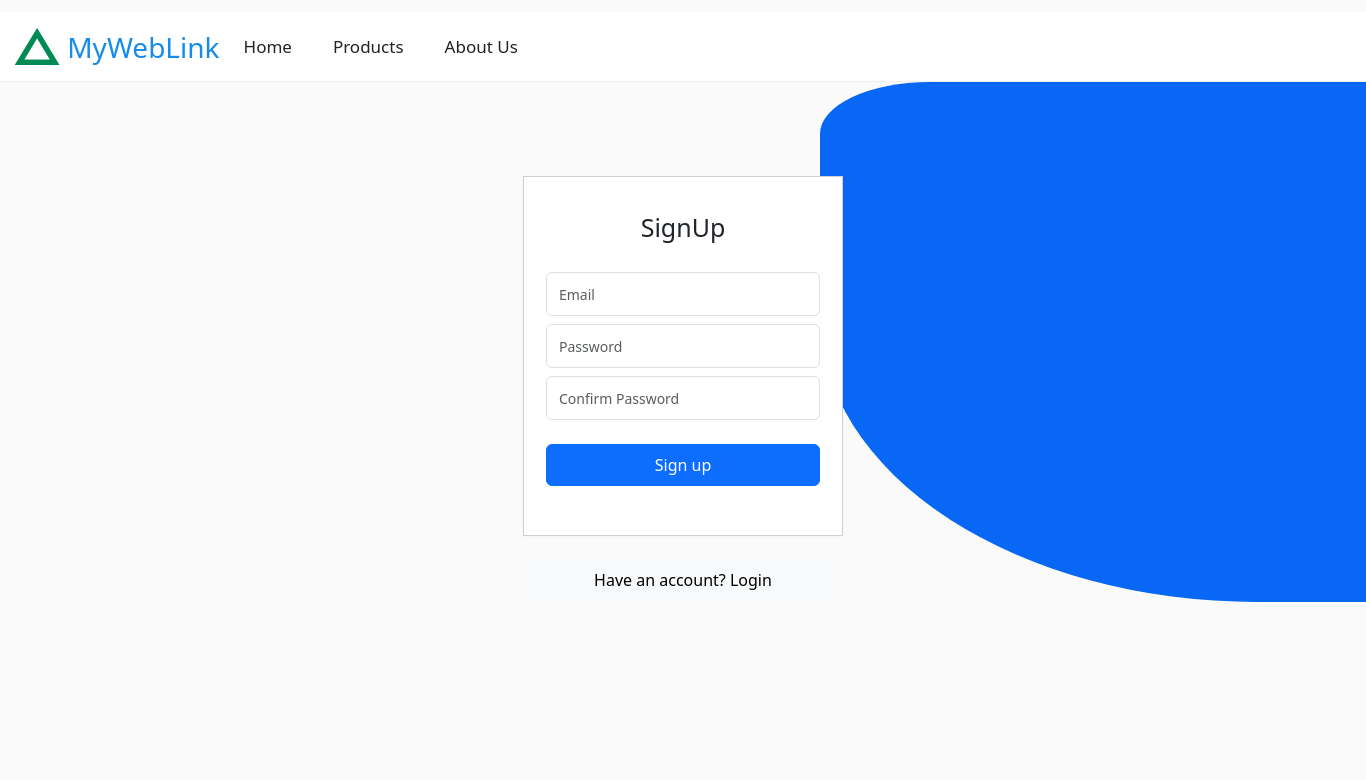
Test case: Signup Component › successfully creates a new user
This screenshot has width=1366, height=780.
In the field with placeholder "Email": [683, 294] box [546, 272, 820, 316], type "test@gmail.com"
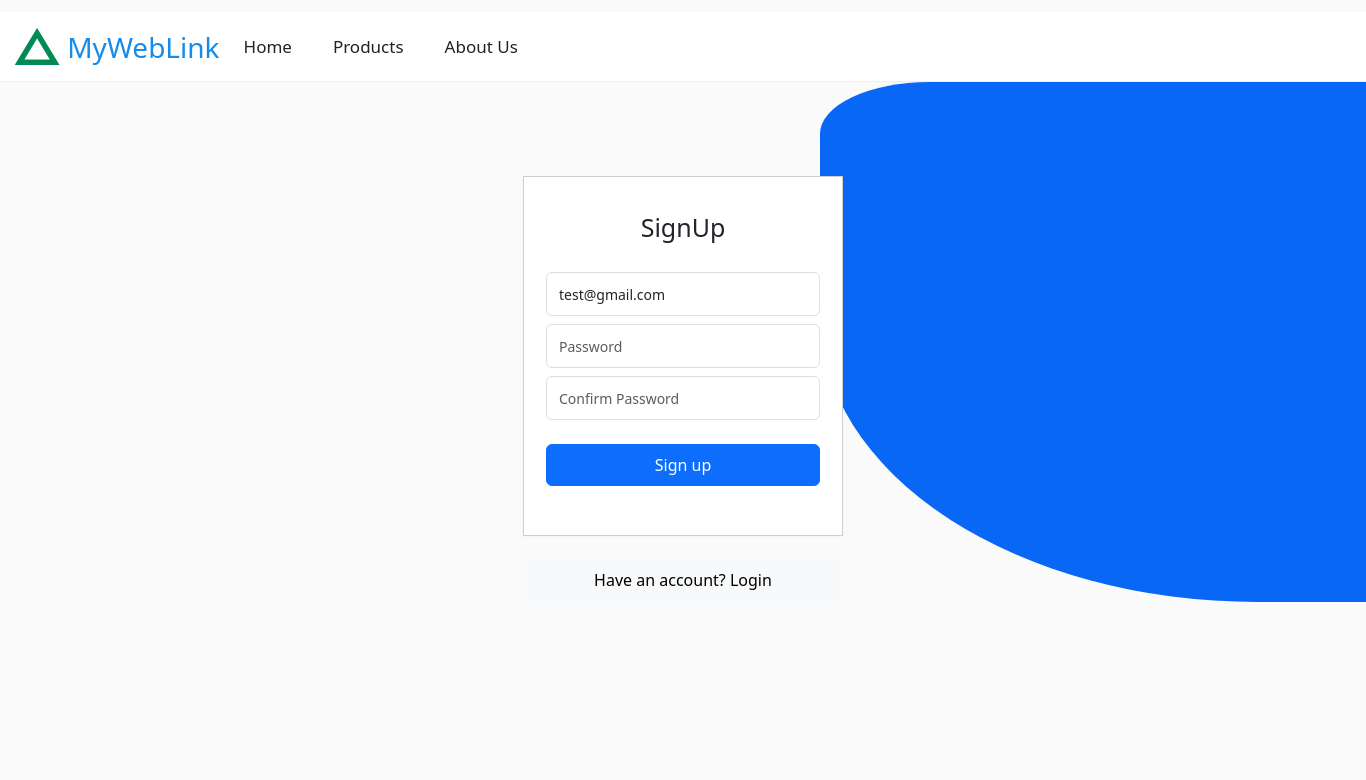
In the password field with placeholder "Password": [683, 346] box [546, 324, 820, 368], type "password123"
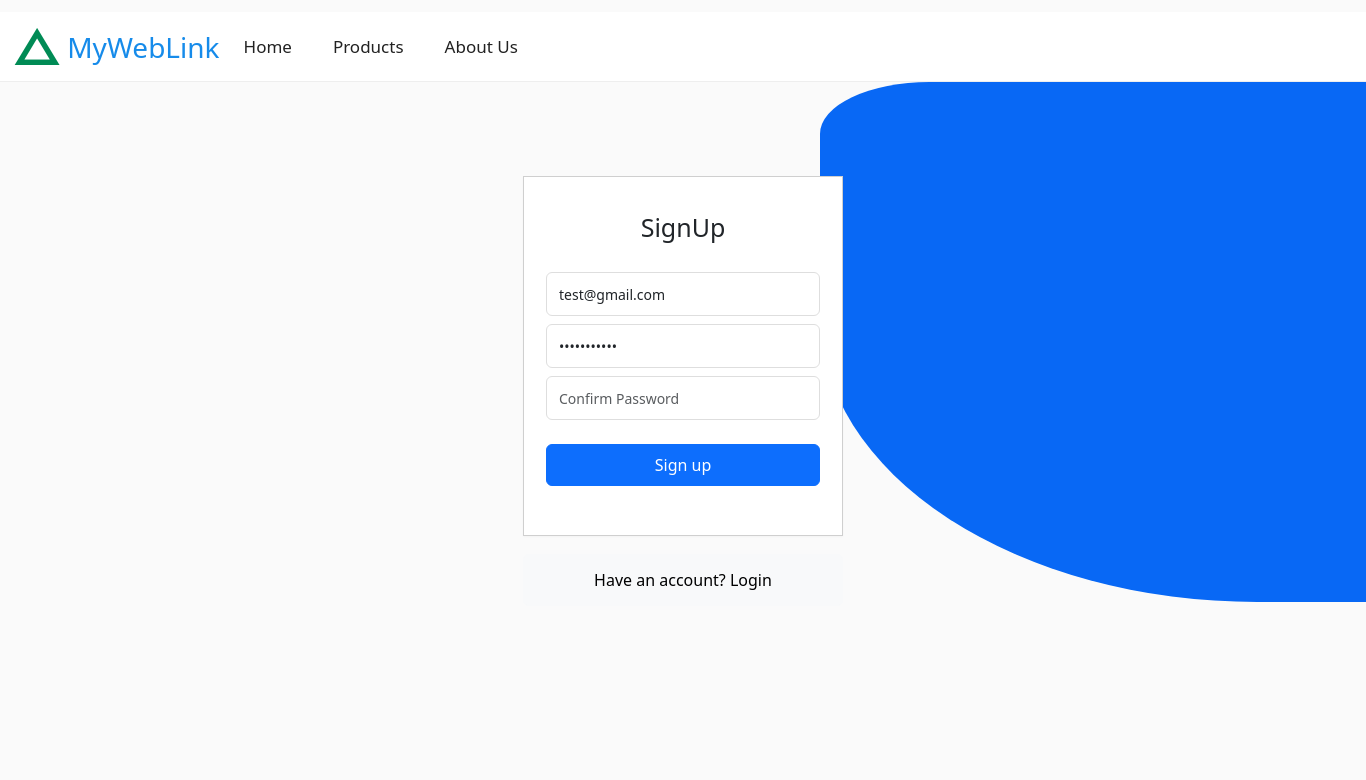
In the password field with placeholder "Confirm Password": [683, 398] box [546, 376, 820, 420], type "password123"
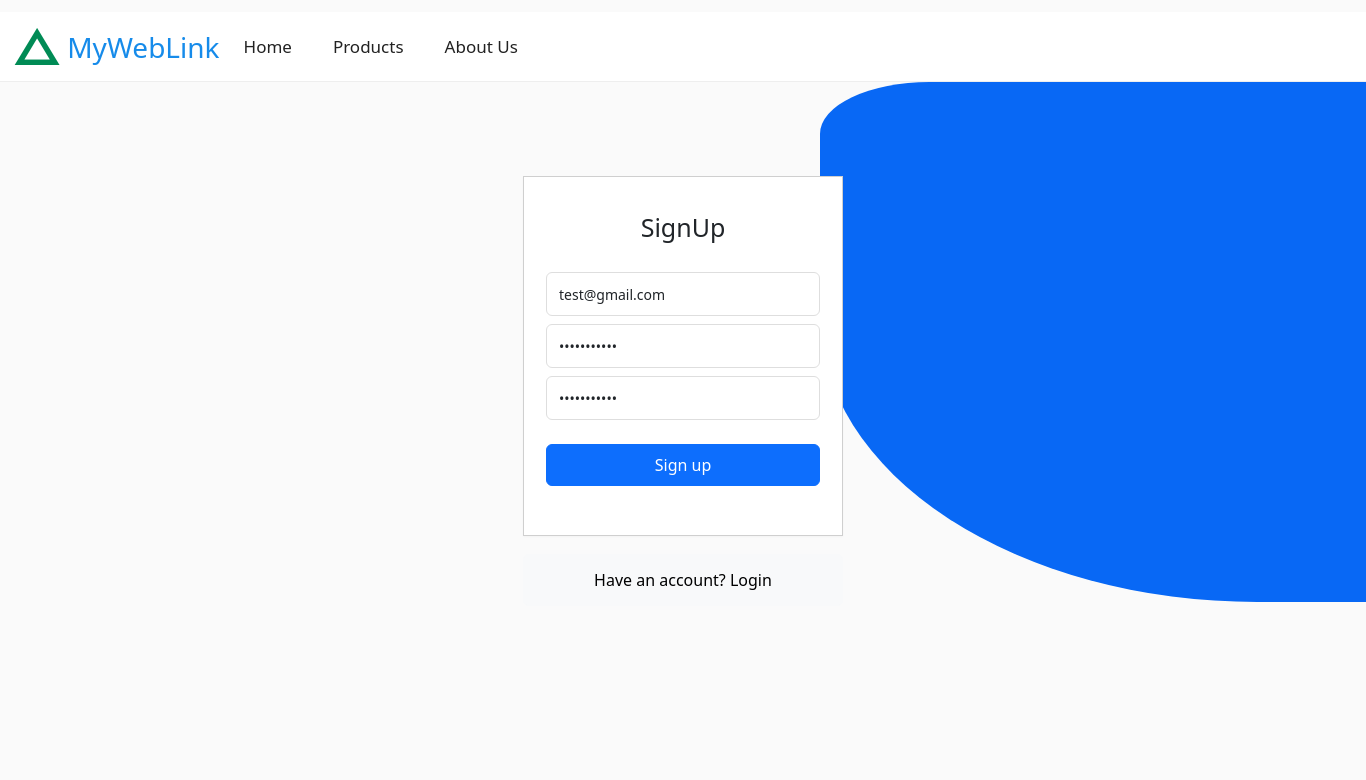
Click the button "Sign up": [683, 465] box [546, 444, 820, 486]
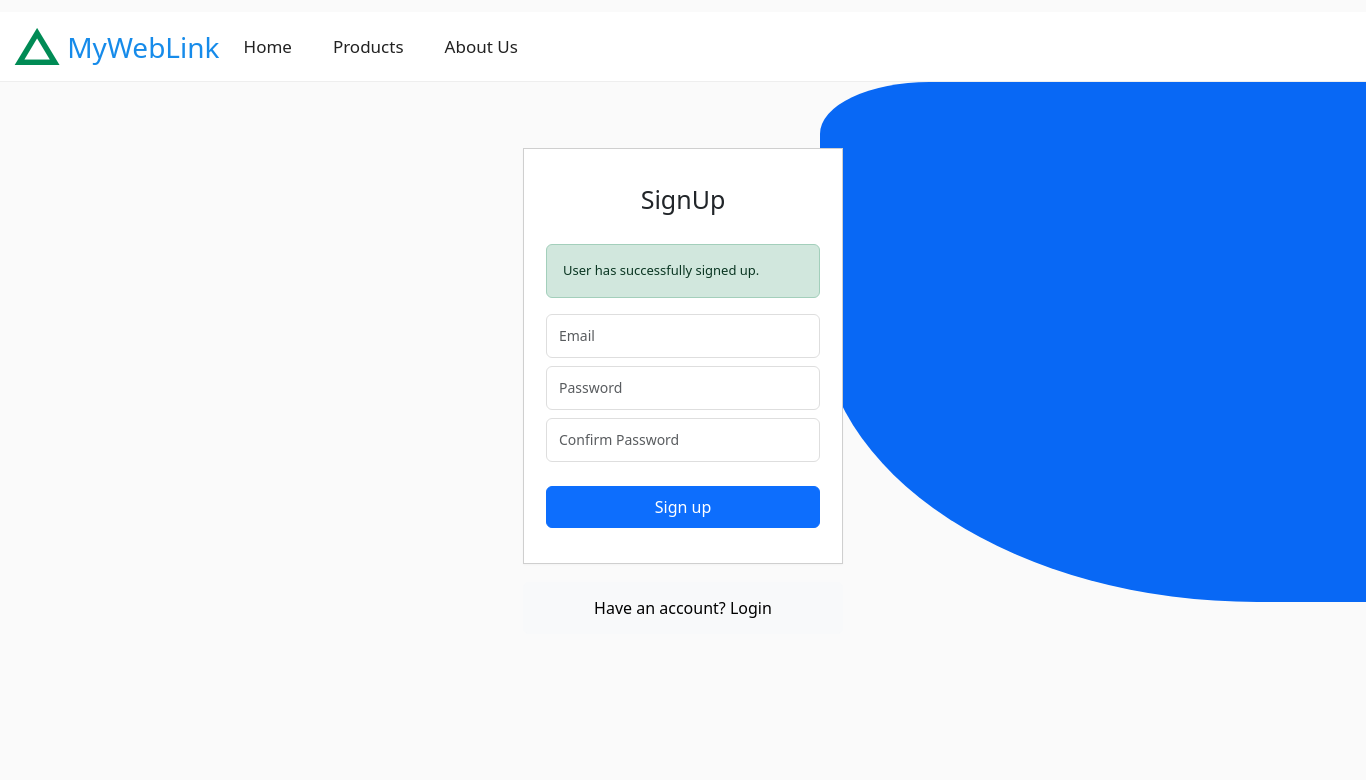
Expected: the text "User has successfully signed up." is shown, [546, 244, 820, 298]
